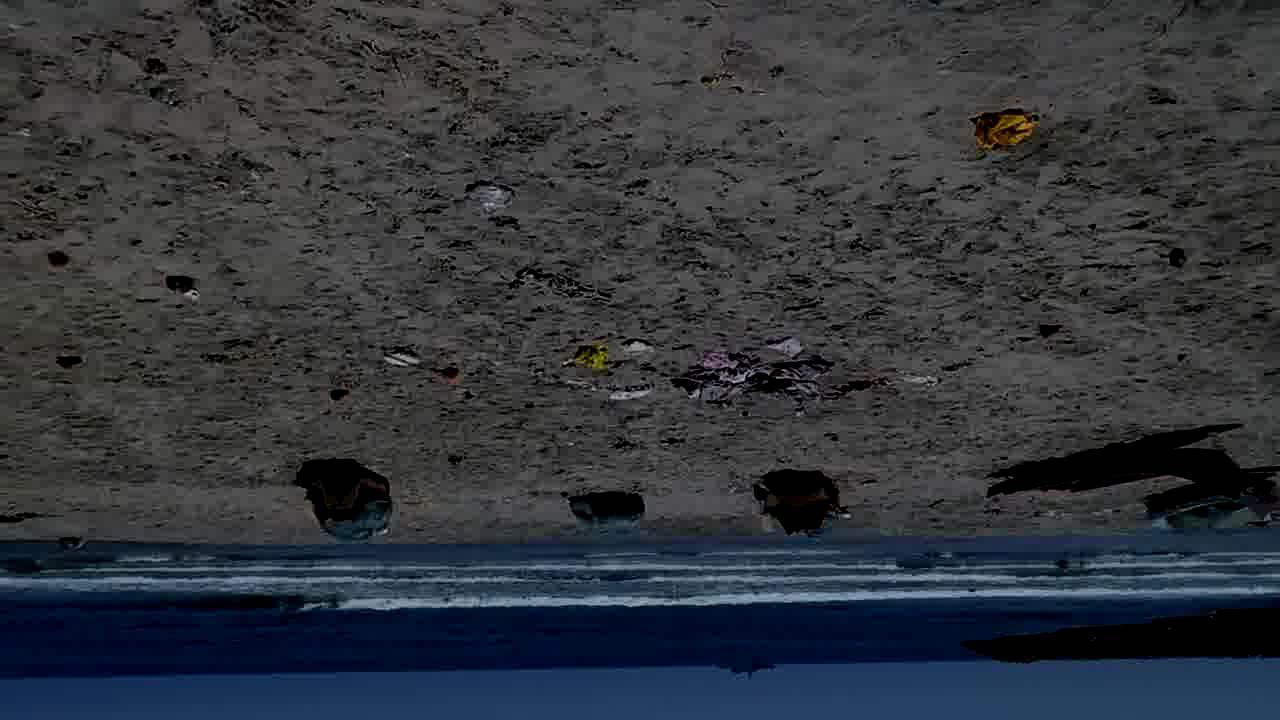large collection of objects: (984, 446, 1274, 524), (294, 454, 401, 542), (1145, 470, 1279, 538), (750, 470, 844, 535), (557, 490, 652, 536)
obj: (673, 354, 831, 413), (969, 110, 1034, 156), (516, 269, 614, 299), (461, 178, 516, 213), (573, 384, 651, 400), (380, 347, 422, 370), (166, 278, 202, 303), (570, 348, 608, 369), (764, 340, 800, 356), (624, 337, 652, 354), (58, 354, 81, 368)
sand/background: (0, 540, 1279, 720)
